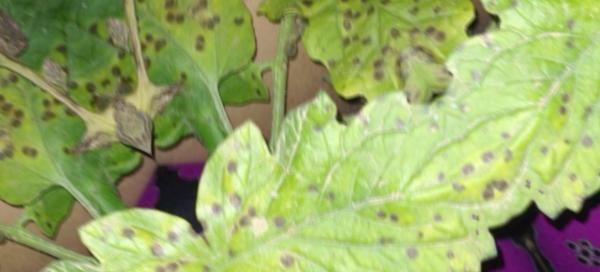Tomato Septoria leaf spot: (162, 27, 539, 272), (25, 0, 295, 166), (160, 0, 335, 11)
